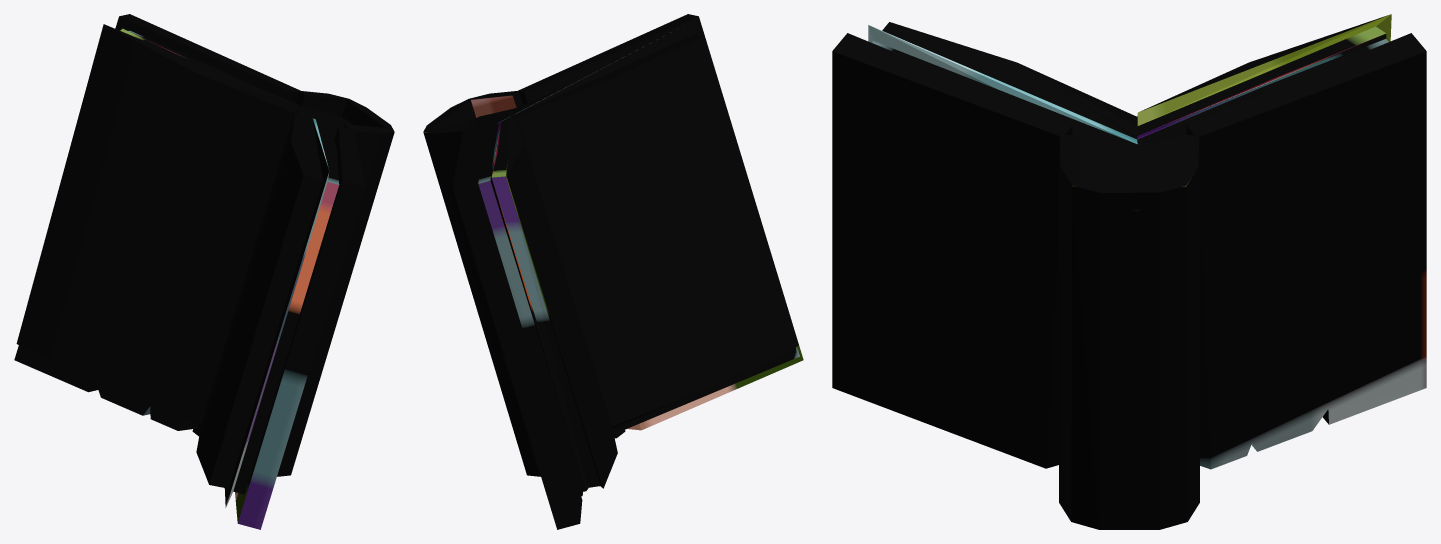
Rendered from SM_book.fbx.
3 renders of one model, left to right at view 1: azimuth 30°, elevation 25°; view 2: azimuth 150°, elevation 25°; view 3: azimuth 270°, elevation 25°, orthographic. The views are drawn at different scales.
Parts seen in each view (by area): view 1: Cube.034; view 2: Cube.034; view 3: Cube.034.
Part boxes in pixels (left/top/right/bottom): Cube.034: left=14, top=14, right=394, bottom=529; Cube.034: left=423, top=14, right=803, bottom=529; Cube.034: left=832, top=14, right=1426, bottom=529.
Bounding box in the file's own units: 42.39 × 57.49 × 65.25.
